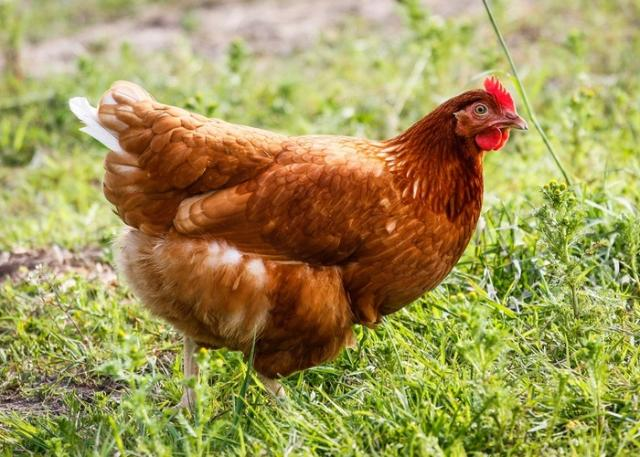Chicken: (67, 73, 529, 401)
